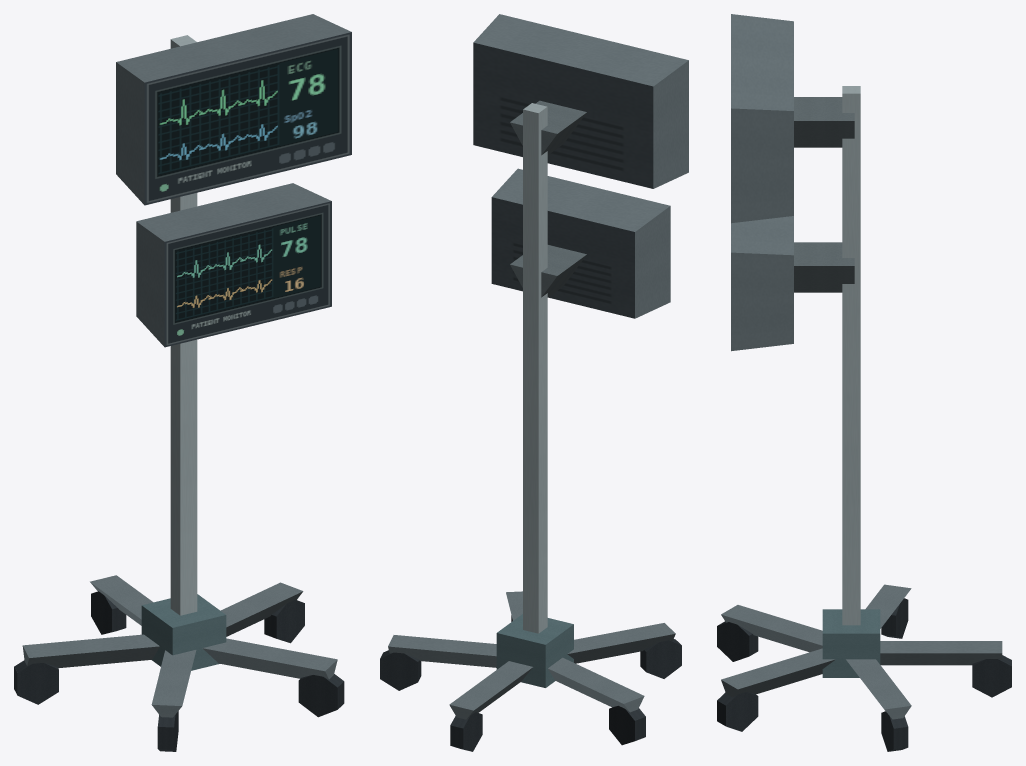
Rendered from Patient_Monitor_Stand.glb.
3 views of the same model, side by side, from view 1: azimuth 30°, elevation 25°; view 2: azimuth 150°, elevation 25°; view 3: azimuth 270°, elevation 25° (orthographic). The views are drawn at different scales.
Visible parts, largest first — view 1: Patient_Monitor_Stand; view 2: Patient_Monitor_Stand; view 3: Patient_Monitor_Stand.
Boxes of the visible parts, x1=… form: Patient_Monitor_Stand: x1=14, y1=14, x2=351, y2=751; Patient_Monitor_Stand: x1=380, y1=14, x2=688, y2=751; Patient_Monitor_Stand: x1=717, y1=14, x2=1011, y2=751.
Size of the model in its own units: 0.7297 by 1.64 by 0.694.
1 material, 1 textured.
